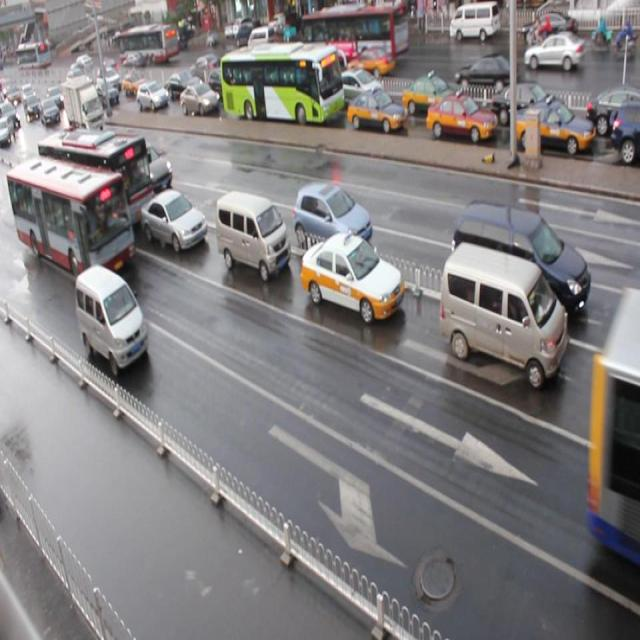car: (299, 229, 403, 321), (292, 182, 372, 258), (514, 99, 594, 159), (138, 187, 206, 252), (425, 92, 497, 144), (492, 82, 568, 128), (608, 330, 640, 434), (345, 87, 406, 133), (402, 74, 463, 118), (585, 89, 640, 136), (127, 143, 173, 195), (332, 63, 384, 106), (609, 99, 640, 161), (21, 159, 61, 204), (179, 80, 220, 116), (208, 68, 242, 104), (137, 82, 170, 112), (164, 72, 198, 100), (124, 70, 148, 95), (95, 82, 118, 108)
truck: (438, 240, 567, 388), (451, 199, 589, 326), (76, 263, 147, 377), (214, 187, 289, 281)
van: (1, 153, 137, 288), (587, 282, 640, 561), (37, 126, 154, 235), (216, 42, 339, 125)
